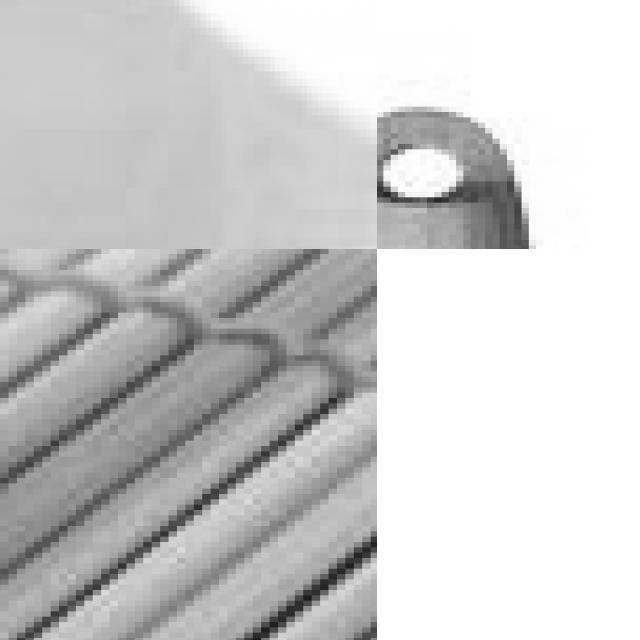spoons: (0, 0, 377, 249)
